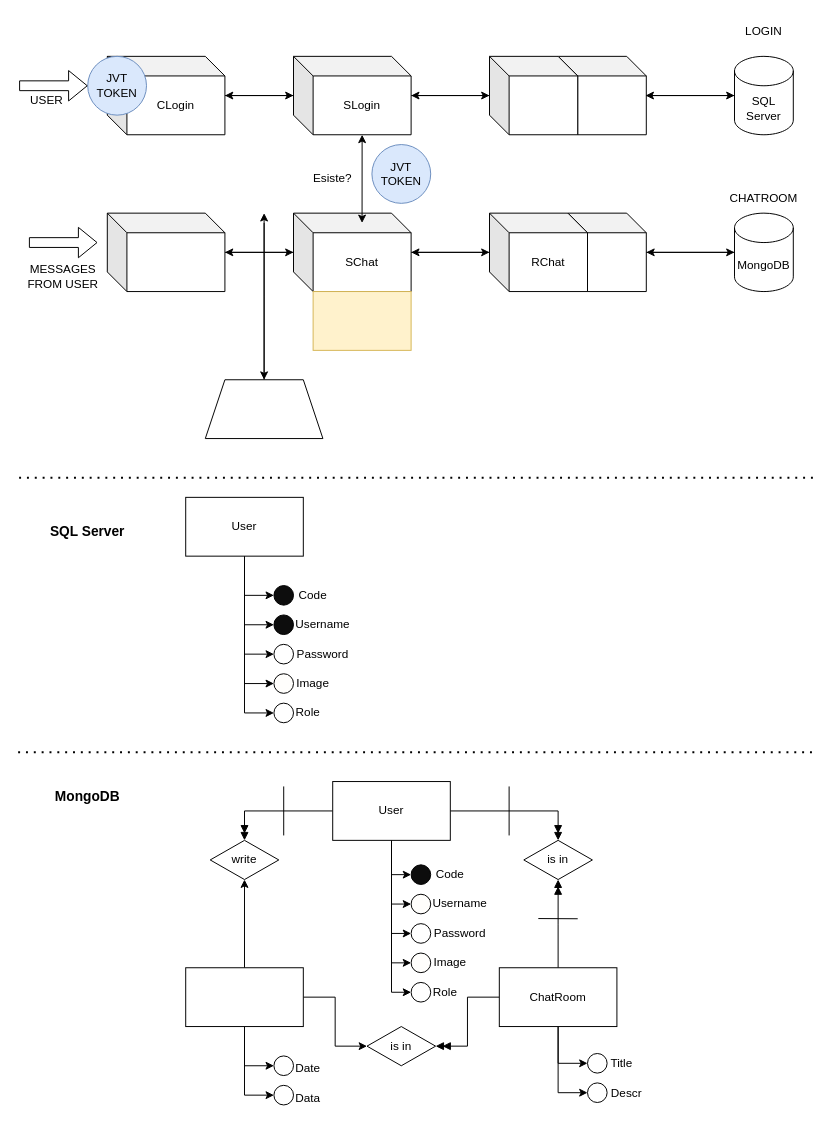
The diagram is 831 pixels wide and 1126 high, and some of its shapes have lost their labels. The centre of each missing label's shape, as x and y in pixels:
"CChat" goes at [165,252].
"CLIENT" goes at [606,252].
"CTX EF" goes at [601,95].
"DTO ModelState" goes at [263,409].
"Message" goes at [244,997].
"RLogin" goes at [533,95].
"Room in Mongo" goes at [361,320].
